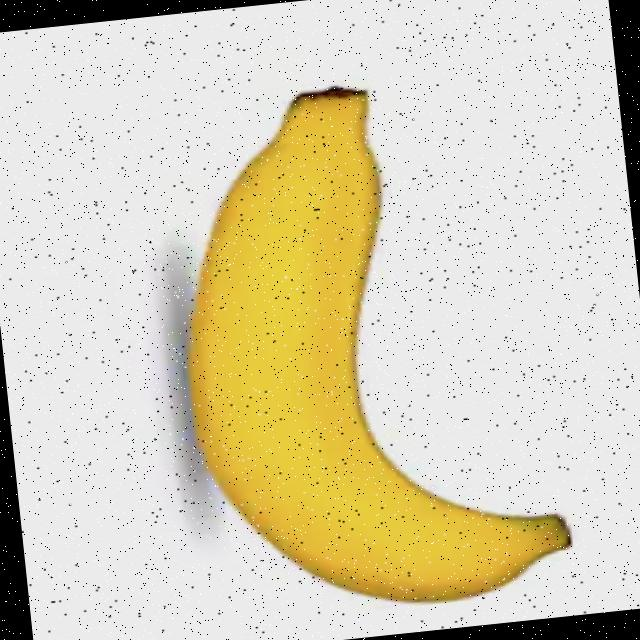Ripe: (150, 58, 580, 631)
